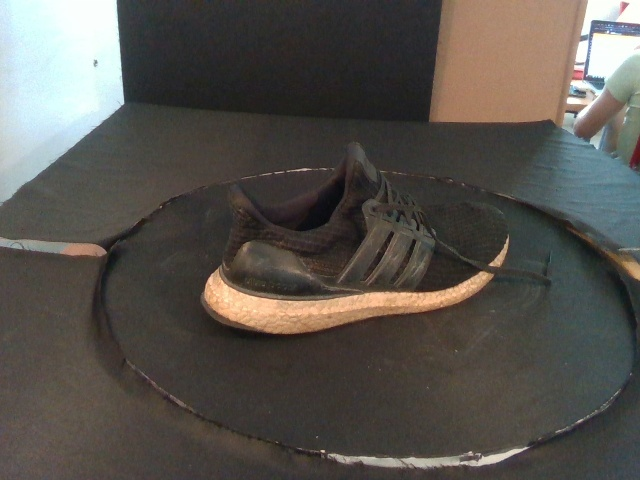shoe: (198, 140, 510, 337)
